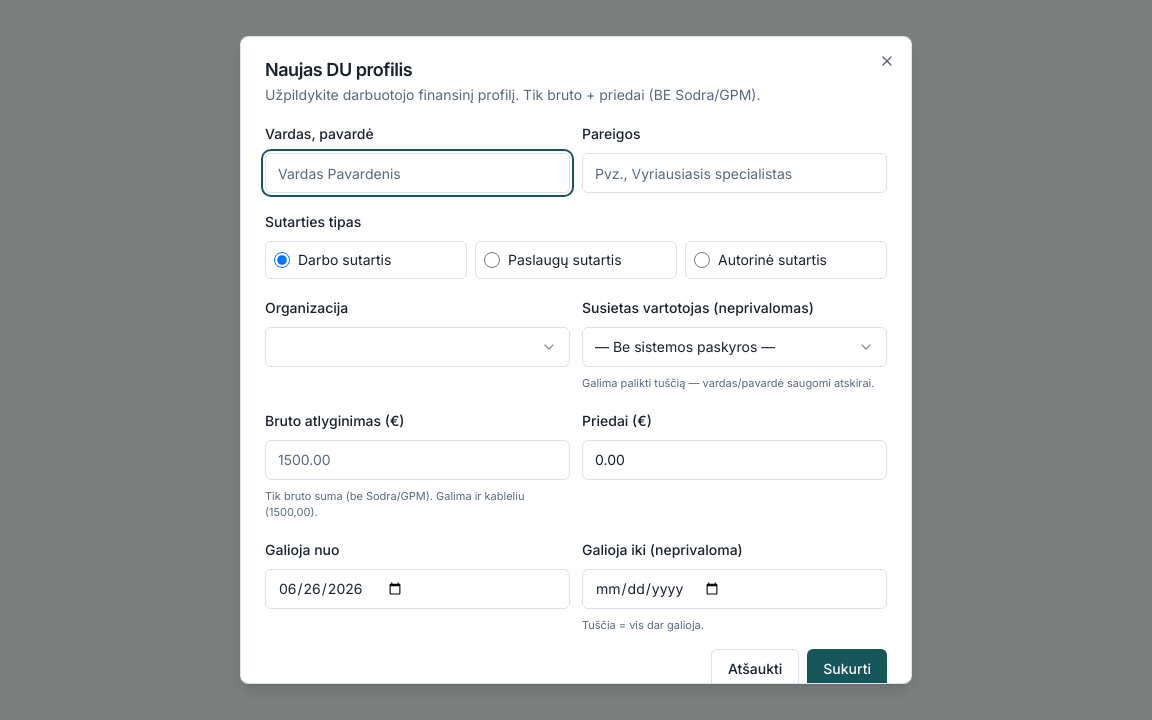
Test: PayrollProfileDialog › rodo klaidą, kai vardas/pavardė tuščia ir submit paspaustas
Click the button "Sukurti" at (847, 669), box [807,649,887,689]
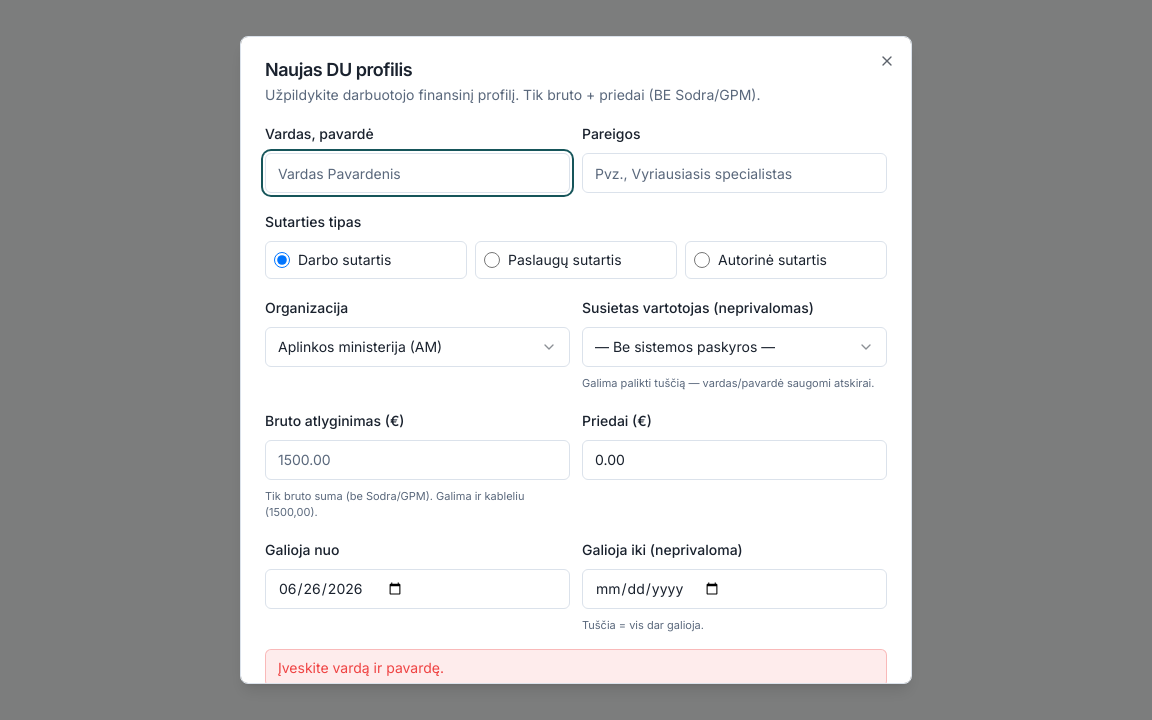
Result: the text "Įveskite vardą ir pavardę." is shown at [265,649,887,684]
